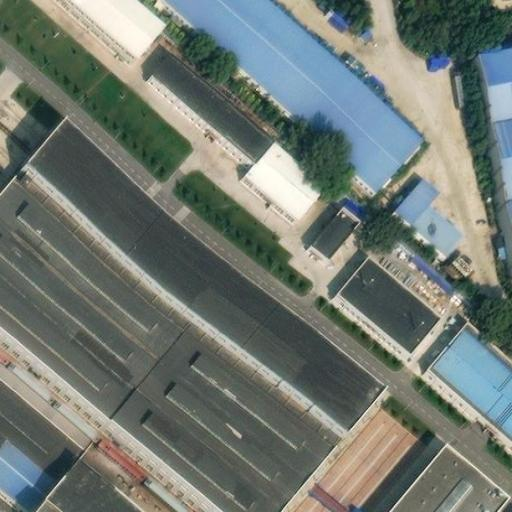building: (0, 139, 374, 512), (148, 55, 272, 164), (426, 323, 512, 445), (334, 261, 439, 359), (475, 46, 512, 267), (42, 0, 156, 69), (244, 142, 327, 222), (385, 455, 499, 512), (391, 178, 464, 261), (391, 235, 460, 295), (313, 207, 361, 260), (322, 2, 356, 35), (424, 49, 450, 73)
